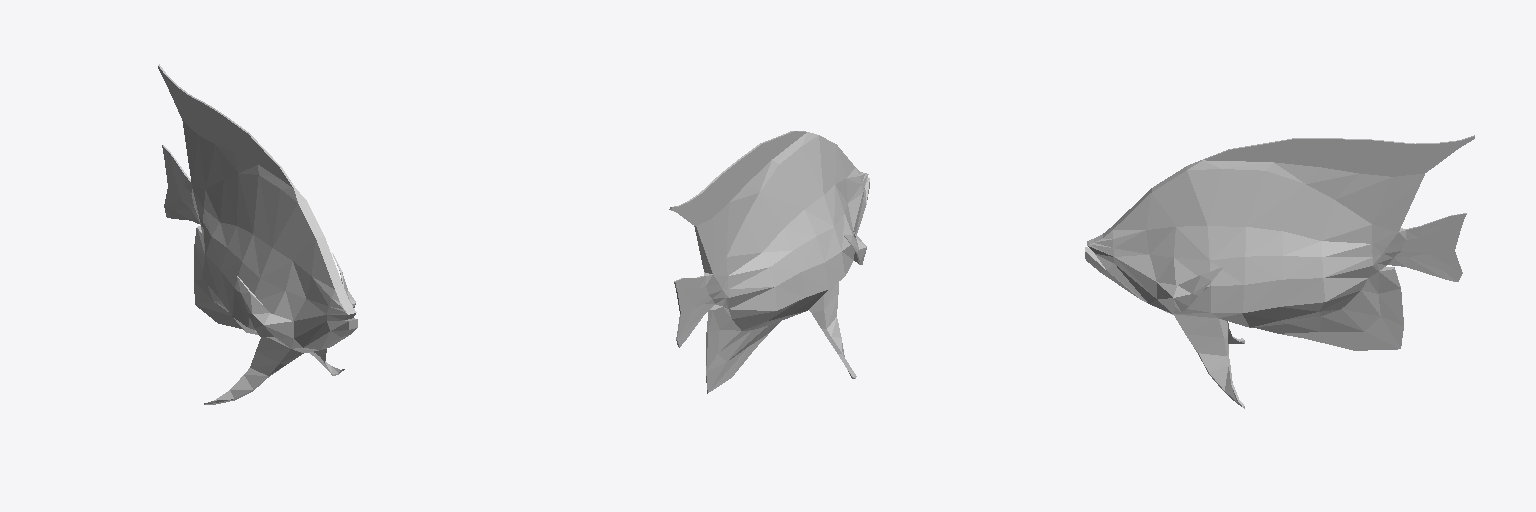
Rendered from fish15.obj.
3 views of the same model, side by side, from view 1: azimuth 30°, elevation 25°; view 2: azimuth 150°, elevation 25°; view 3: azimuth 270°, elevation 25° (orthographic).
Parts seen in each view (by area): view 1: TropicalFish15:TropicalFish15; view 2: TropicalFish15:TropicalFish15; view 3: TropicalFish15:TropicalFish15.
Part boxes in pixels (bbox=[...]): TropicalFish15:TropicalFish15: bbox=[158, 64, 357, 404]; TropicalFish15:TropicalFish15: bbox=[669, 131, 869, 393]; TropicalFish15:TropicalFish15: bbox=[1085, 135, 1474, 408].
Bounding box in the file's own units: 3.22 × 5.24 × 7.71.